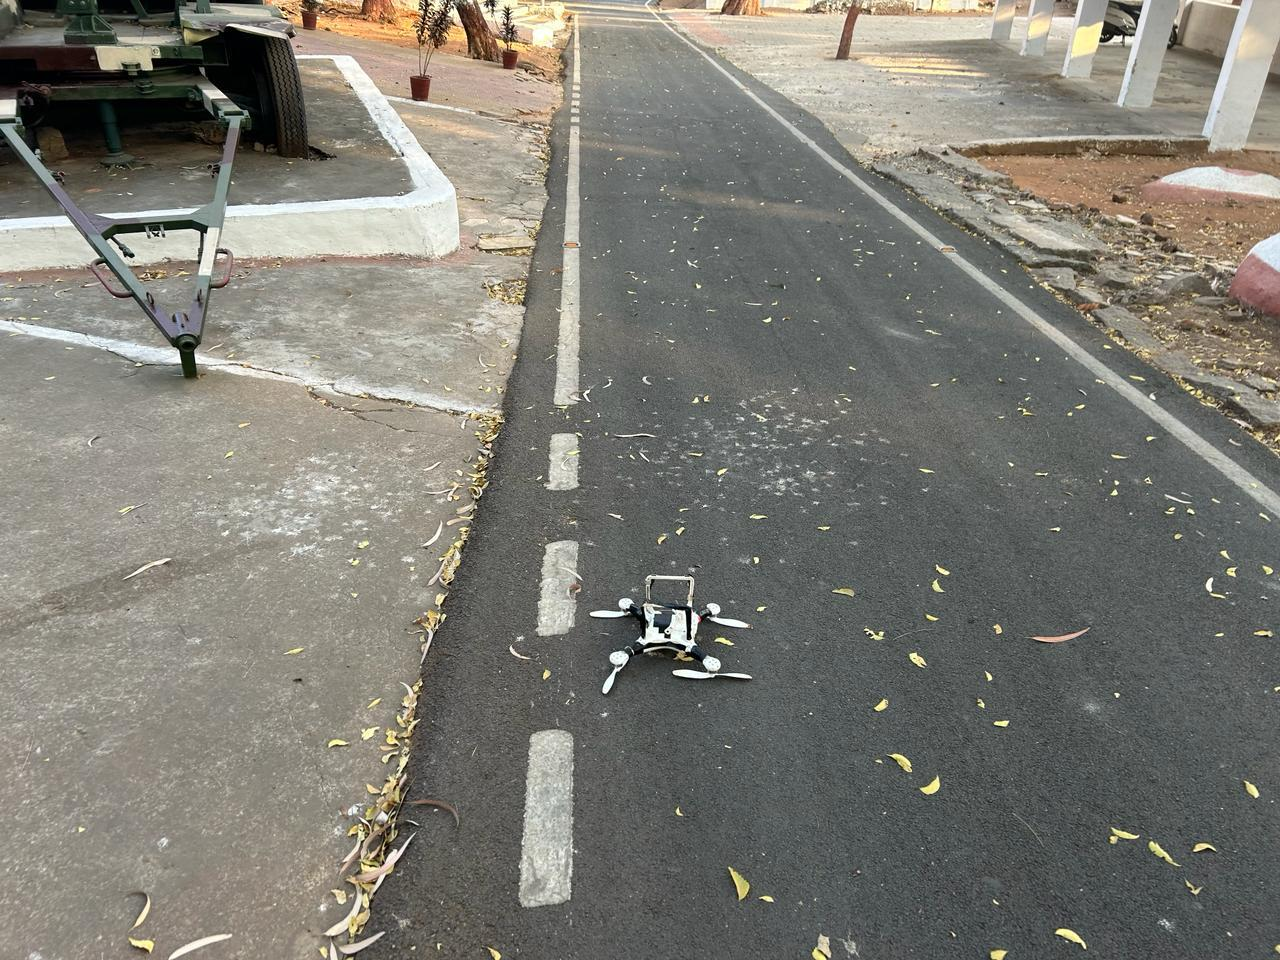drone: (546, 488, 795, 732)
